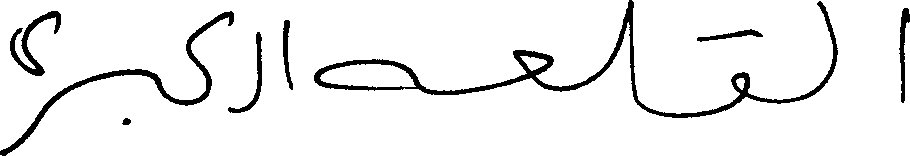ا: (897, 5, 909, 102), (281, 17, 295, 90)
ب: (117, 67, 163, 130)
ر: (57, 9, 96, 99)
ع: (511, 48, 553, 91)
ق: (730, 26, 752, 107)
ك: (185, 9, 233, 114)
ل: (610, 0, 635, 105), (817, 0, 840, 93), (250, 30, 263, 108)
ه: (311, 56, 417, 91)
ى: (0, 9, 59, 82)
